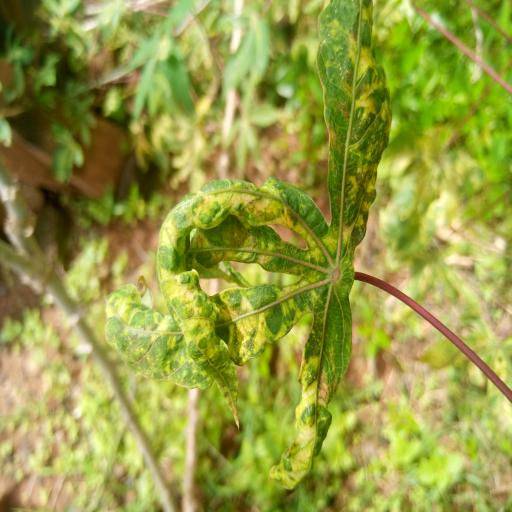Cassava_Mosaic: (102, 0, 398, 495)
